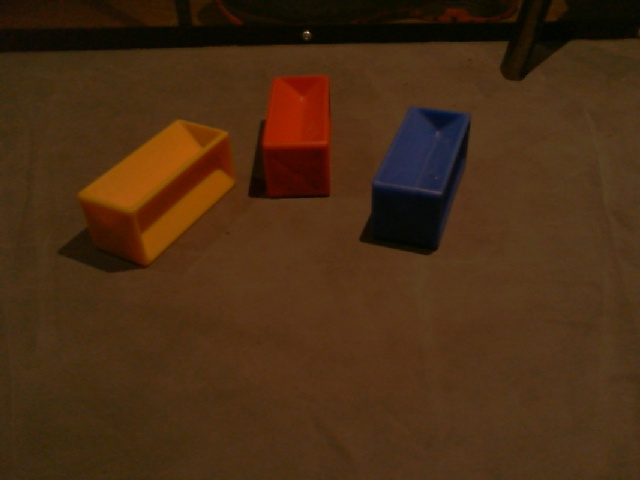BlueSample: (368, 106, 472, 247)
RedSample: (259, 72, 336, 202)
YellowSample: (75, 118, 239, 267)
